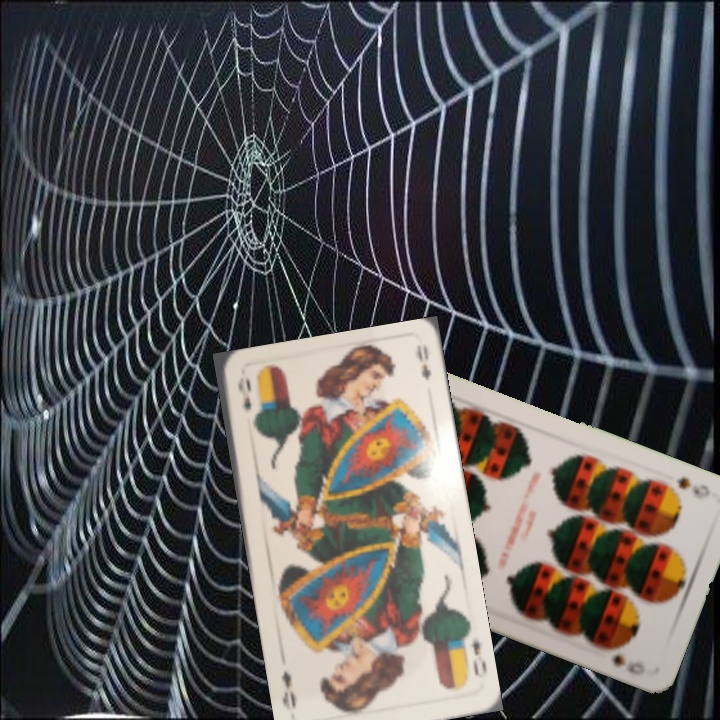EO: (456, 629, 488, 678), (233, 373, 254, 414)
S9: (672, 473, 714, 502)
